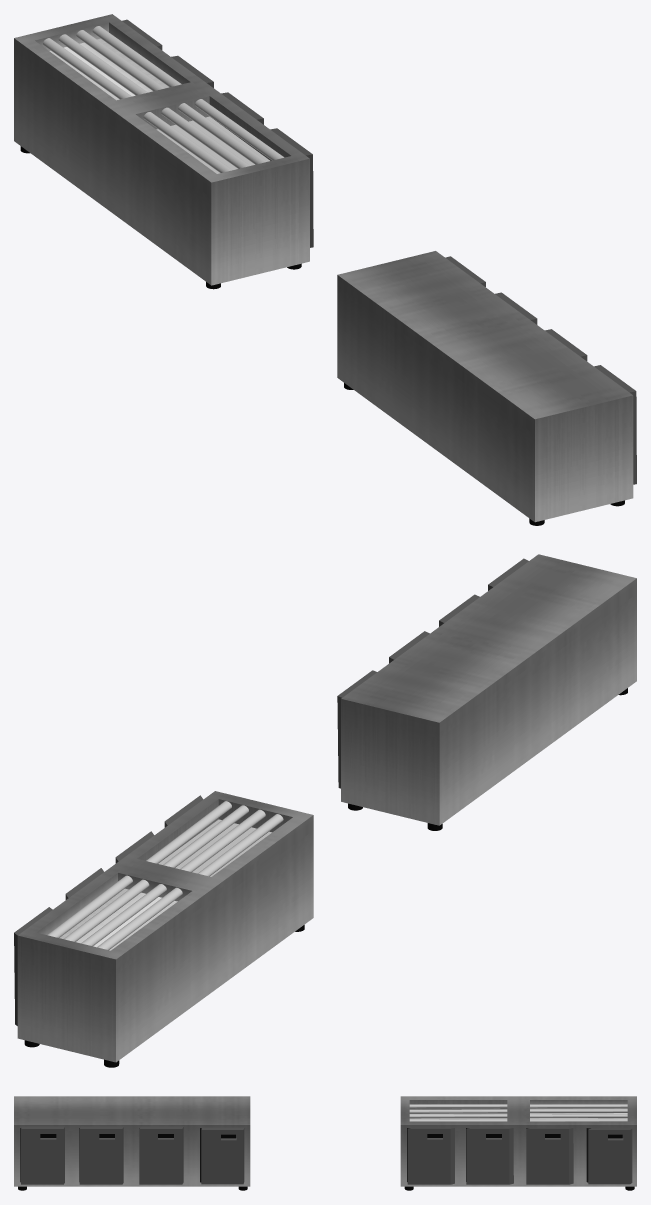
File: werkbank_spleten.obj
3 views of the same model, one above another, from view 1: azimuth 30°, elevation 25°; view 2: azimuth 150°, elevation 25°; view 3: azimuth 270°, elevation 25° (orthographic). The views are drawn at different scales.
Visible parts, largest first — view 1: Cube_Cube.002, Cube.017_Cube.029, Cube.018_Cube.030, Cylinder.017_Cylinder.025, Cylinder.018_Cylinder.026, Cylinder.016_Cylinder.024, Cylinder.021_Cylinder.030, Cylinder.019_Cylinder.027, Cylinder.022_Cylinder.031, Cylinder.023_Cylinder.032, Cylinder.020_Cylinder.029; view 2: Cube_Cube.002, Cube.017_Cube.029, Cube.018_Cube.030, Cylinder.017_Cylinder.025, Cylinder.018_Cylinder.026, Cylinder.020_Cylinder.029, Cylinder.016_Cylinder.024, Cylinder.022_Cylinder.031, Cylinder.021_Cylinder.030, Cylinder.023_Cylinder.032, Cylinder.019_Cylinder.027; view 3: Cube_Cube.002, Cube.017_Cube.029, Cube.016_Cube.028, Cube.012_Cube.024, Cube.014_Cube.026, Cube.003_Cube.005, Cube.005_Cube.007, Cube.001_Cube.009, Cube.013_Cube.025, Cube.004_Cube.006, Cylinder.016_Cylinder.024, Cylinder.017_Cylinder.025 (+8 smaller).
Part boxes in pixels (<box>): Cube_Cube.002: <box>337,251,633,522</box>; Cube.017_Cube.029: <box>14,14,309,285</box>; Cube.018_Cube.030: <box>156,116,269,173</box>; Cylinder.017_Cylinder.025: <box>178,103,267,164</box>; Cylinder.018_Cylinder.026: <box>195,99,284,160</box>; Cylinder.016_Cylinder.024: <box>161,107,250,168</box>; Cylinder.021_Cylinder.030: <box>58,34,147,95</box>; Cylinder.019_Cylinder.027: <box>143,112,232,173</box>; Cylinder.022_Cylinder.031: <box>76,30,164,91</box>; Cylinder.023_Cylinder.032: <box>92,26,181,87</box>; Cylinder.020_Cylinder.029: <box>43,38,131,99</box>; Cube_Cube.002: <box>341,554,636,825</box>; Cube.017_Cube.029: <box>17,791,313,1062</box>; Cube.018_Cube.030: <box>158,819,271,876</box>; Cylinder.017_Cylinder.025: <box>163,805,248,867</box>; Cylinder.018_Cylinder.026: <box>146,801,231,863</box>; Cylinder.020_Cylinder.029: <box>97,887,182,950</box>; Cylinder.016_Cylinder.024: <box>180,809,265,871</box>; Cylinder.022_Cylinder.031: <box>63,879,149,941</box>; Cylinder.021_Cylinder.030: <box>81,884,166,946</box>; Cylinder.023_Cylinder.032: <box>47,875,132,937</box>; Cylinder.019_Cylinder.027: <box>198,814,283,876</box>; Cube_Cube.002: <box>14,1096,250,1186</box>; Cube.017_Cube.029: <box>400,1096,636,1186</box>; Cube.016_Cube.028: <box>407,1128,454,1184</box>; Cube.012_Cube.024: <box>526,1128,573,1184</box>; Cube.014_Cube.026: <box>466,1128,513,1184</box>; Cube.003_Cube.005: <box>79,1126,123,1184</box>; Cube.005_Cube.007: <box>139,1126,183,1184</box>; Cube.001_Cube.009: <box>21,1126,64,1184</box>; Cube.013_Cube.025: <box>588,1128,632,1184</box>; Cube.004_Cube.006: <box>201,1127,244,1184</box>; Cylinder.016_Cylinder.024: <box>409,1109,507,1113</box>; Cylinder.017_Cylinder.025: <box>409,1114,507,1118</box>.
Bounding box in the file's own units: 3.48 × 3.42 × 29.11.
